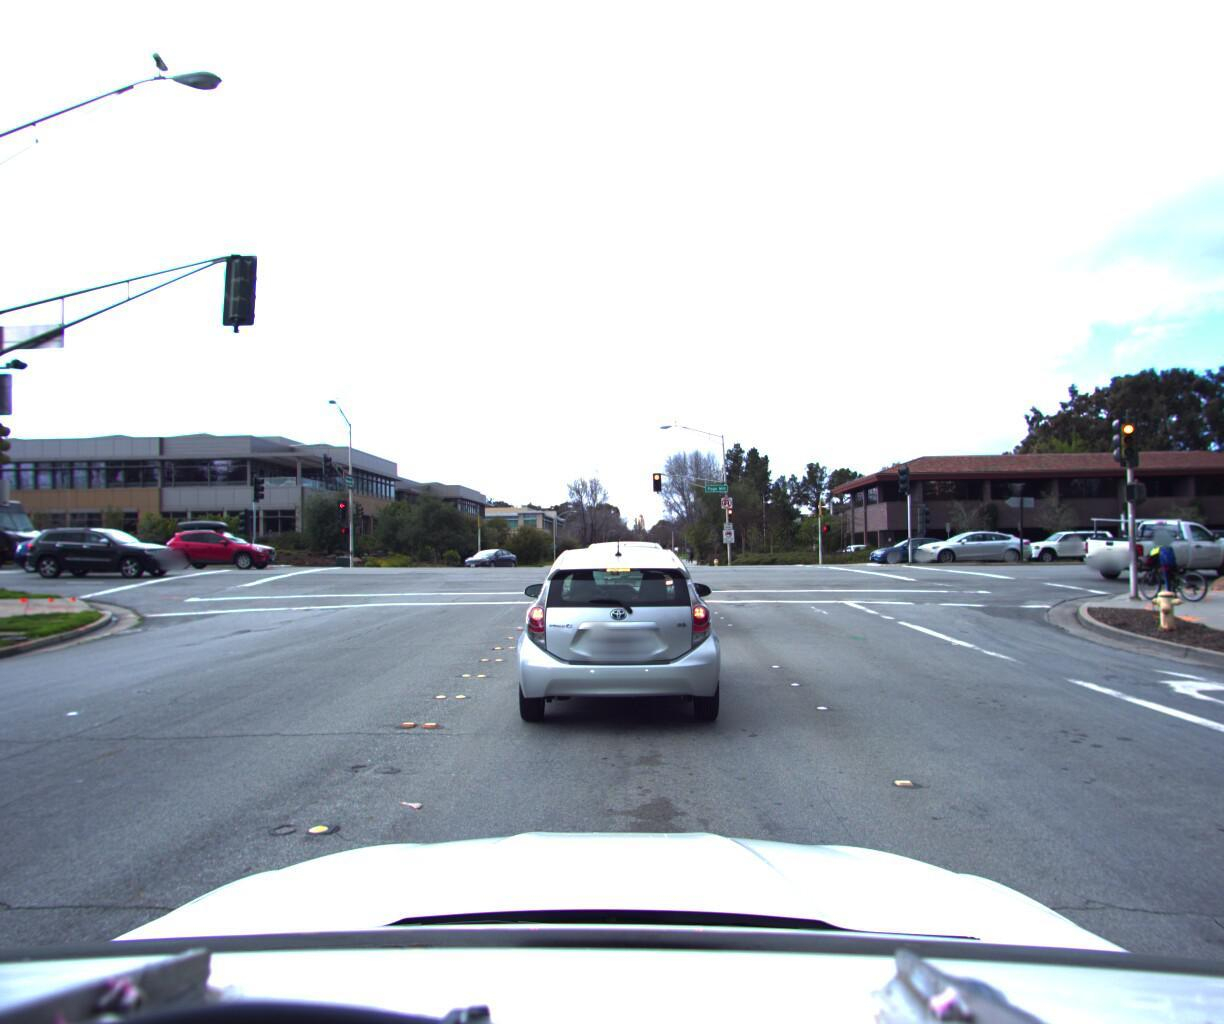bicycle: (1120, 525, 1217, 597)
car: (502, 536, 750, 740), (560, 536, 701, 645), (1072, 513, 1224, 582), (17, 520, 192, 577), (3, 527, 144, 574), (906, 517, 1036, 565), (155, 524, 284, 573), (1012, 522, 1126, 559), (858, 530, 970, 565), (1138, 521, 1224, 560), (1127, 524, 1224, 557), (1139, 523, 1224, 558), (458, 542, 522, 569)
truck: (0, 493, 77, 577)
